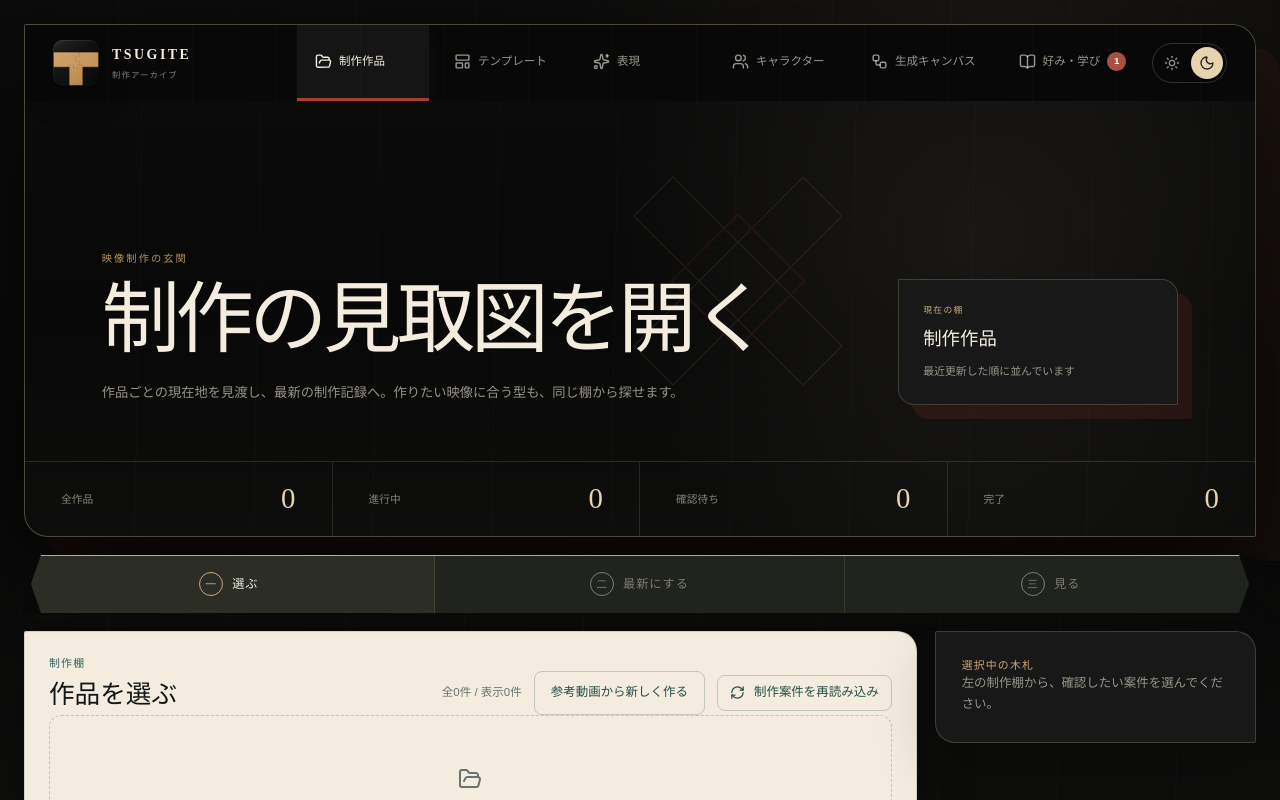
Test: LauncherApp › 0件の制作workspaceを再読み込みした結果と確認先を表示する
Click the button "制作案件を再読み込み".
click(804, 693)  # box [717,675,892,711]
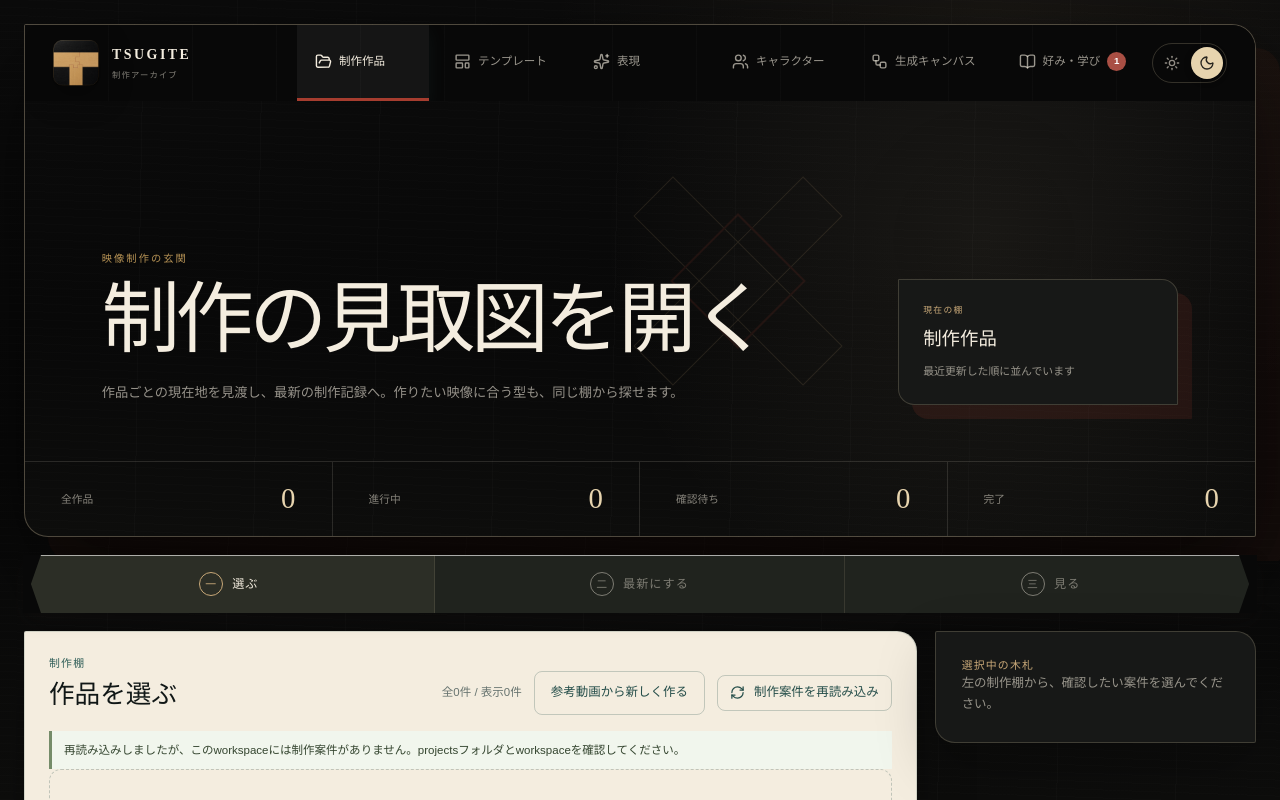
Result: the message reads "再読み込みしましたが、このworkspaceには制作案件がありません。projectsフォルダとworkspaceを確認してください。" at [64,744,685,756]
